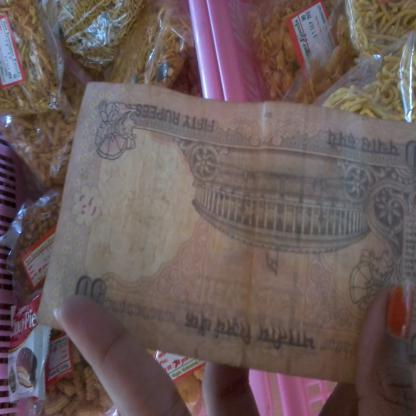Old50Back: (35, 80, 416, 385)
